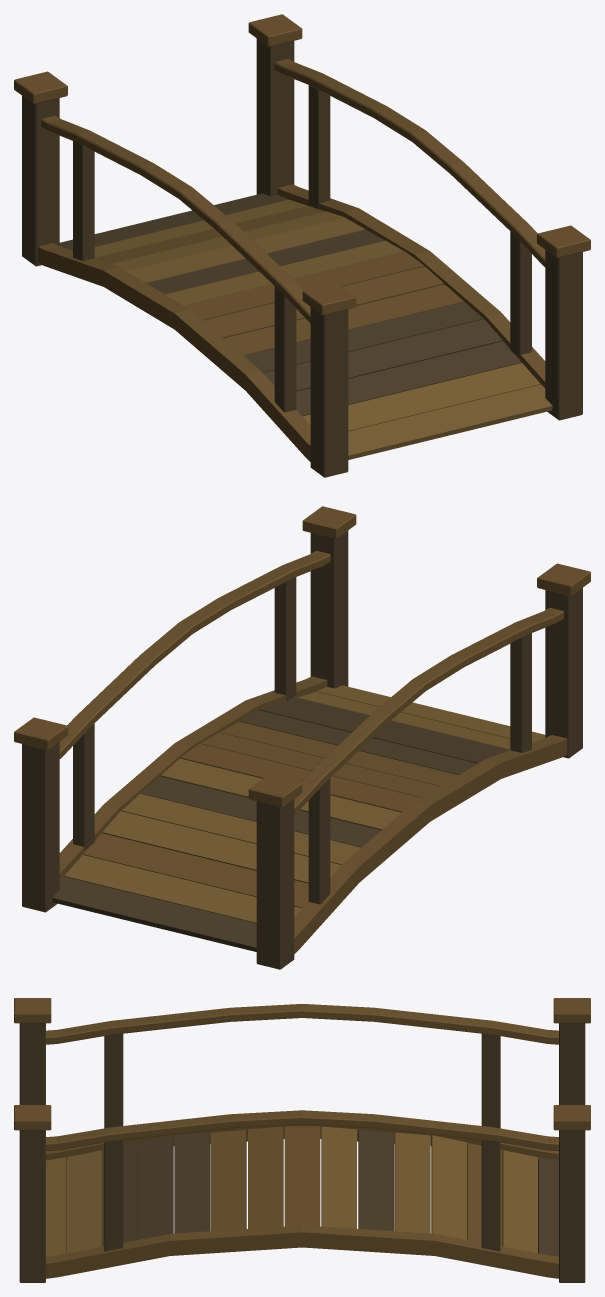
File: Bridge_1.fbx
3 views of the same model, one above another, from view 1: azimuth 30°, elevation 25°; view 2: azimuth 150°, elevation 25°; view 3: azimuth 270°, elevation 25° (orthographic). The views are drawn at different scales.
Parts seen in each view (by area): view 1: Cube.028, Cube.026, Cube.027, Cube.031, Cube.045, Cube.044, Cube.043, Cube.042, Cube.029, Cube.041, Cube.040, Cube.039 (+7 smaller); view 2: Cube.028, Cube.026, Cube.027, Cube.031, Cube.038, Cube.037, Cube.036, Cube.034, Cube.029, Cube.033, Cube.032, Cube.030 (+7 smaller); view 3: Cube.028, Cube.027, Cube.026, Cube.031, Cube.029, Cube.032, Cube.040, Cube.033, Cube.041, Cube.030, Cube.039, Cube.034 (+7 smaller).
Boxes of the visible parts, left/top/right/bottom form: Cube.028: left=14, top=14, right=590, bottom=477; Cube.026: left=37, top=184, right=545, bottom=461; Cube.027: left=41, top=58, right=545, bottom=322; Cube.031: left=73, top=85, right=531, bottom=412; Cube.045: left=348, top=384, right=552, bottom=459; Cube.044: left=302, top=363, right=540, bottom=431; Cube.043: left=296, top=341, right=521, bottom=416; Cube.042: left=263, top=319, right=502, bottom=391; Cube.029: left=184, top=251, right=424, bottom=320; Cube.041: left=243, top=301, right=483, bottom=372; Cube.040: left=224, top=284, right=463, bottom=355; Cube.039: left=203, top=266, right=443, bottom=338; Cube.028: left=14, top=506, right=590, bottom=969; Cube.026: left=59, top=676, right=567, bottom=953; Cube.027: left=59, top=550, right=563, bottom=814; Cube.031: left=73, top=577, right=531, bottom=904; Cube.038: left=52, top=876, right=256, bottom=951; Cube.037: left=64, top=855, right=302, bottom=923; Cube.036: left=83, top=833, right=308, bottom=908; Cube.034: left=102, top=811, right=341, bottom=883; Cube.029: left=180, top=743, right=420, bottom=812; Cube.033: left=121, top=793, right=361, bottom=864; Cube.032: left=141, top=776, right=380, bottom=847; Cube.030: left=161, top=758, right=401, bottom=830; Cube.028: left=14, top=998, right=590, bottom=1282; Cube.027: left=46, top=1004, right=558, bottom=1151; Cube.026: left=46, top=1124, right=558, bottom=1278; Cube.031: left=104, top=1033, right=500, bottom=1251; Cube.029: left=284, top=1126, right=320, bottom=1226; Cube.032: left=358, top=1130, right=394, bottom=1231; Cube.040: left=210, top=1130, right=246, bottom=1231; Cube.033: left=394, top=1132, right=430, bottom=1233; Cube.041: left=174, top=1132, right=210, bottom=1233; Cube.030: left=321, top=1126, right=356, bottom=1228; Cube.039: left=248, top=1126, right=283, bottom=1228; Cube.034: left=431, top=1135, right=466, bottom=1239.
Size of the model in its own units: 1023 by 640 by 2029.
